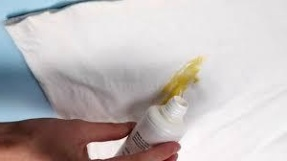mustard: (161, 62, 199, 96)
